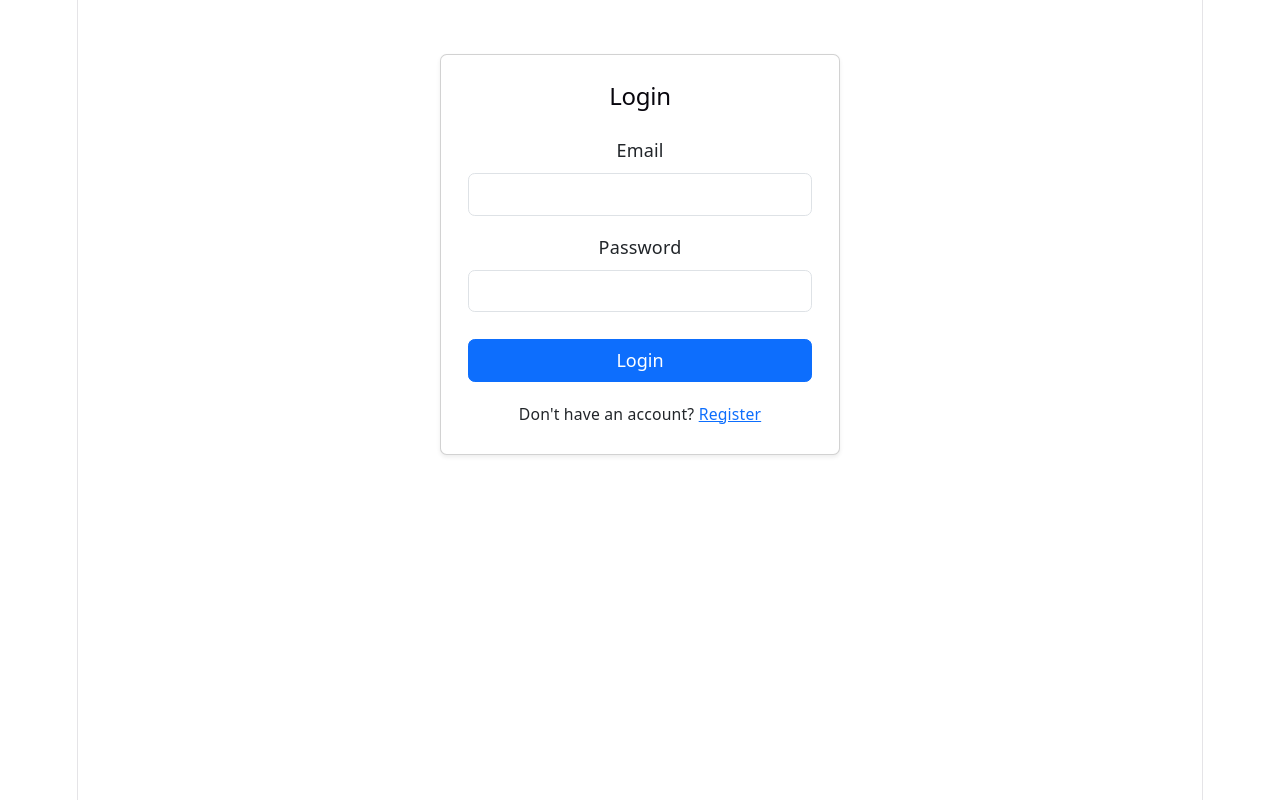
Test case: LoginPage › shows error message on failed login
In the field labelled "Email": (640, 195) [468, 173, 812, 216], type "bad@test.com"
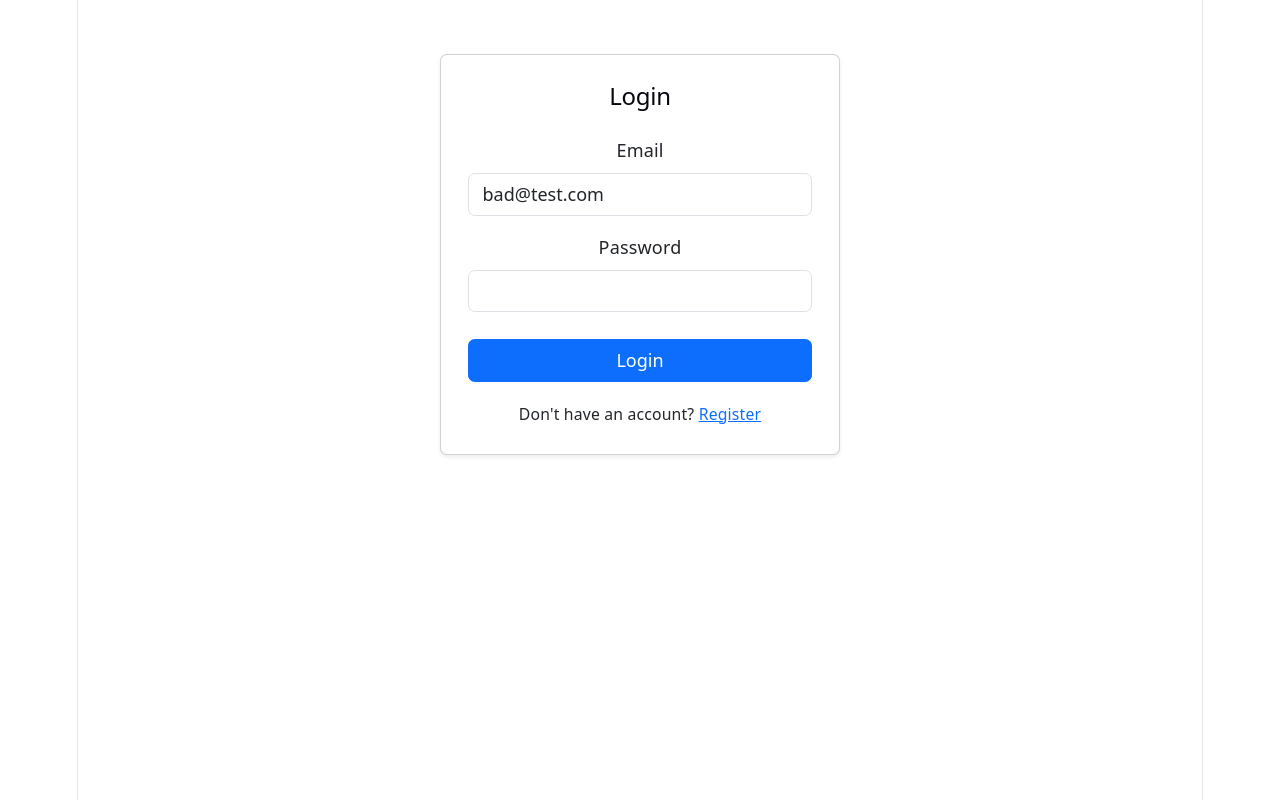
In the password field labelled "Password": (640, 291) [468, 270, 812, 312], type "worng"
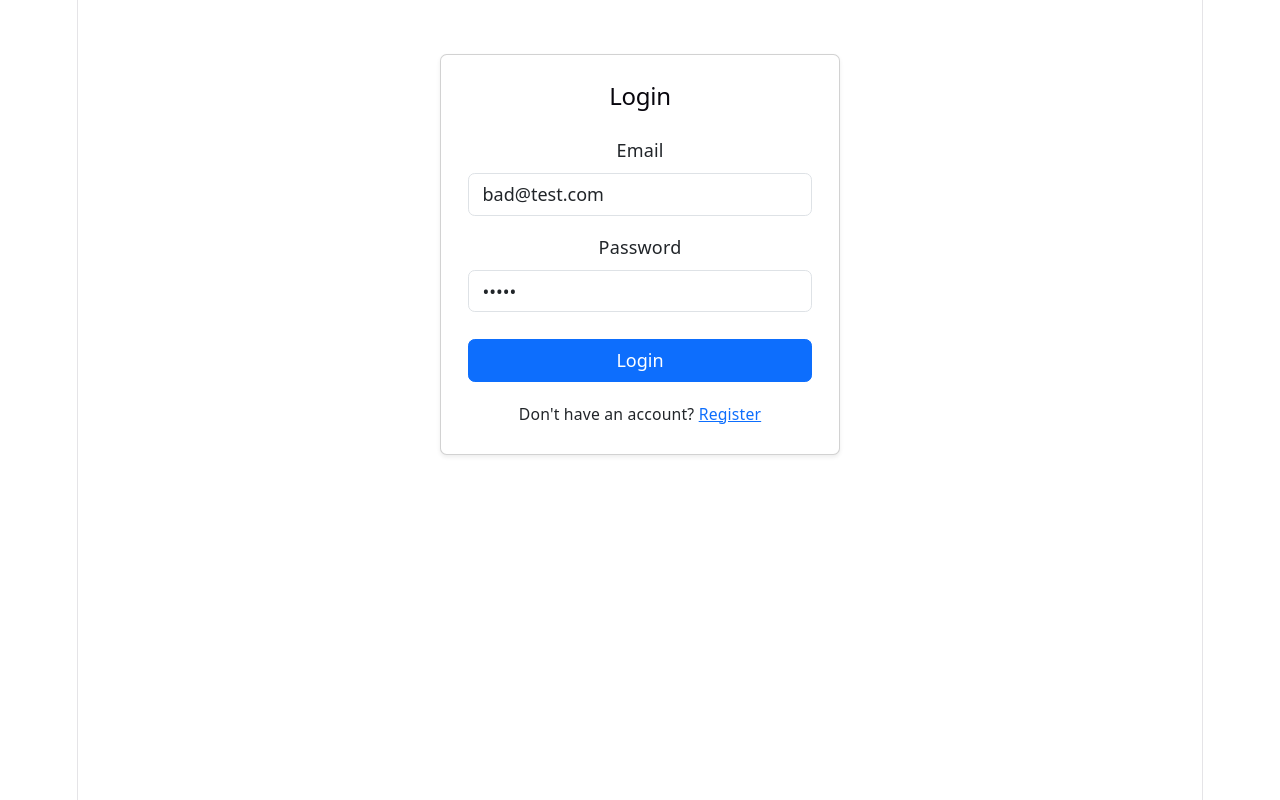
Click the button "Login": (640, 361) [468, 339, 812, 382]
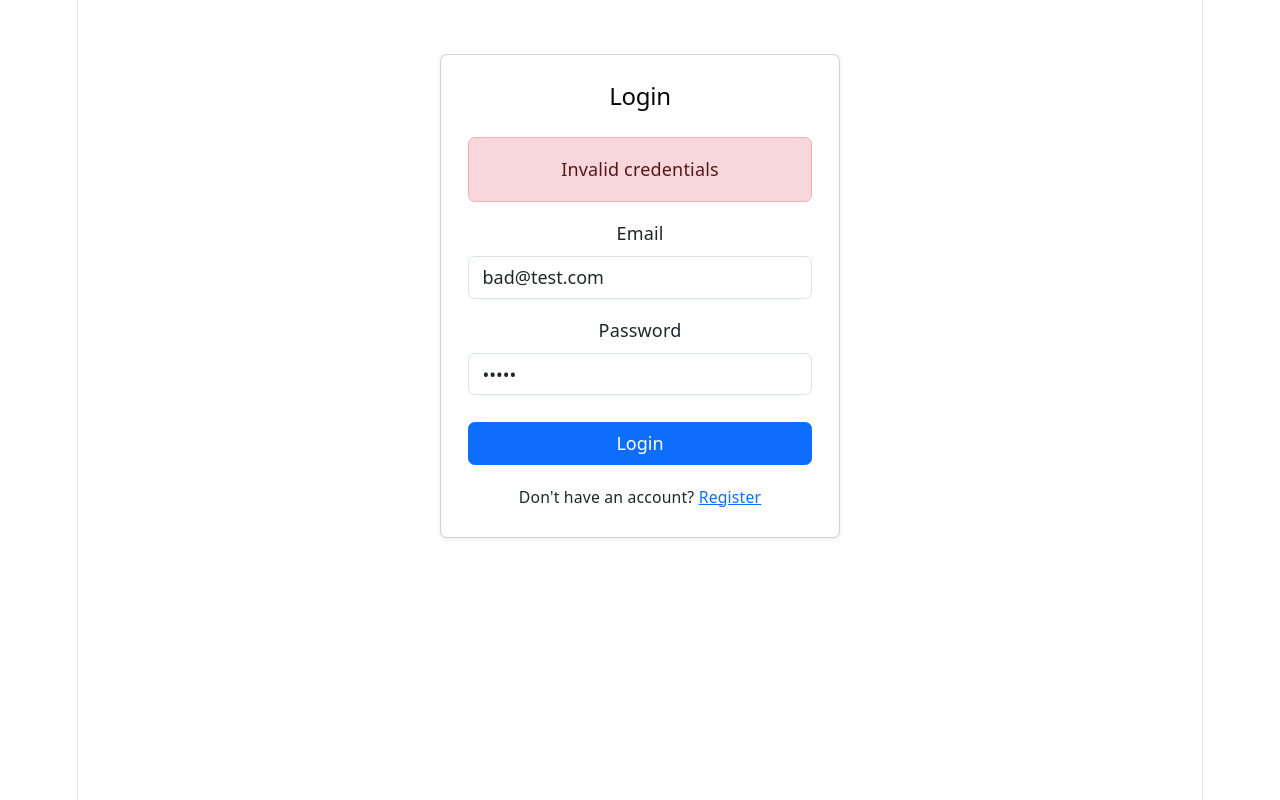
Expected: the text "Invalid credentials" is shown, [468, 137, 812, 202]
